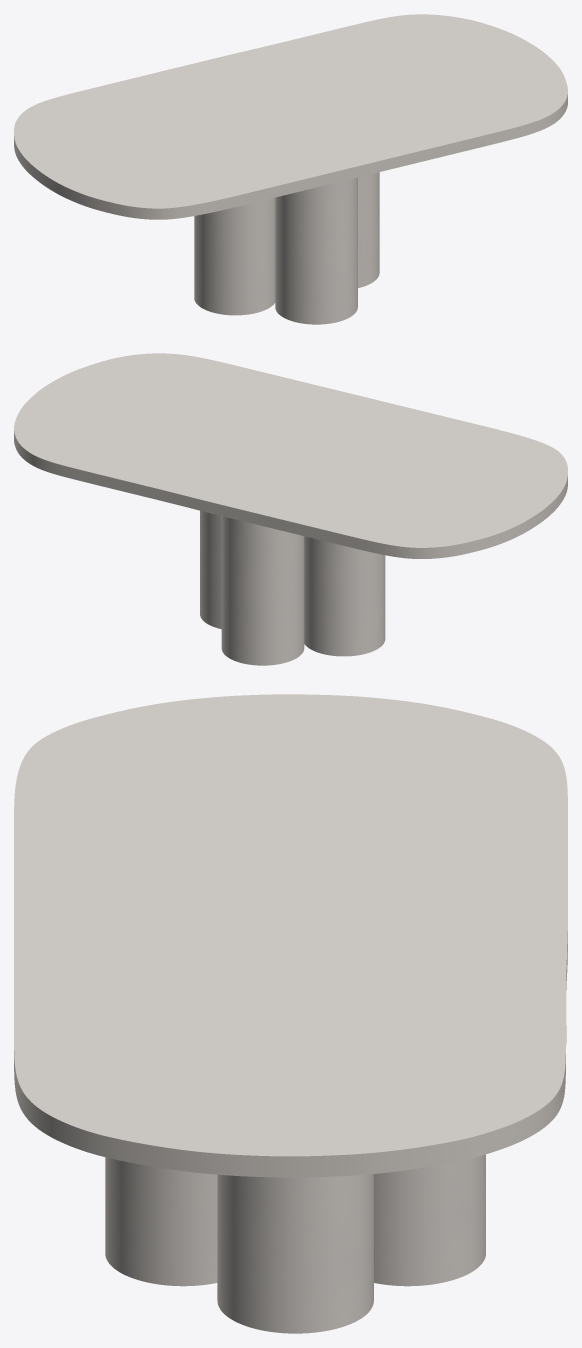
Rendered from pearlwhite_oval_standard_secondtable.glb.
The picture shows the model from 3 angles, top to bottom: view 1: azimuth 30°, elevation 25°; view 2: azimuth 150°, elevation 25°; view 3: azimuth 270°, elevation 25°; orthographic projection. The views are drawn at different scales.
Parts seen in each view (by area): view 1: standard_oval, secondtable; view 2: standard_oval, secondtable; view 3: standard_oval, secondtable.
Boxes of the visible parts, x1,y1,x2,y2 form: standard_oval: (14, 14, 567, 219); secondtable: (194, 172, 379, 324); standard_oval: (14, 353, 567, 558); secondtable: (200, 510, 385, 665); standard_oval: (14, 694, 567, 1177); secondtable: (105, 1154, 485, 1333).
Bounding box in the file's own units: 7.5 × 2.5 × 3.8.
Materials: 1 (1 with a texture image).
